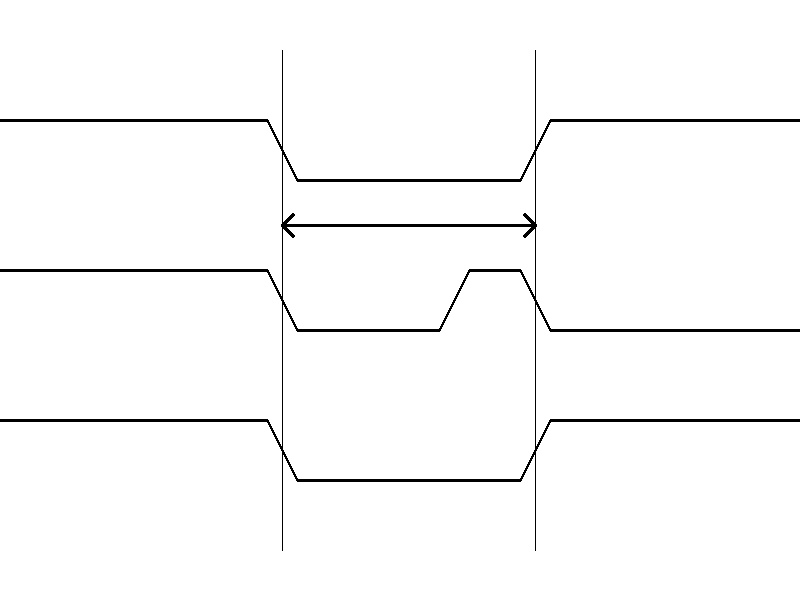double_arrow: (282, 210, 535, 240)
